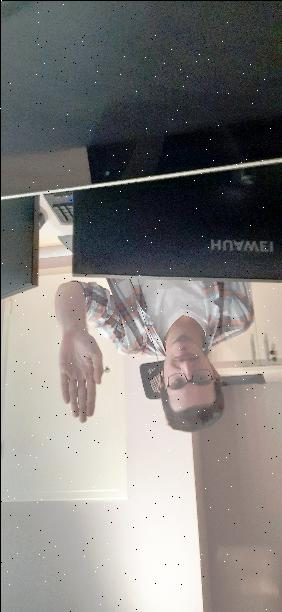Paper: (54, 330, 104, 424)
